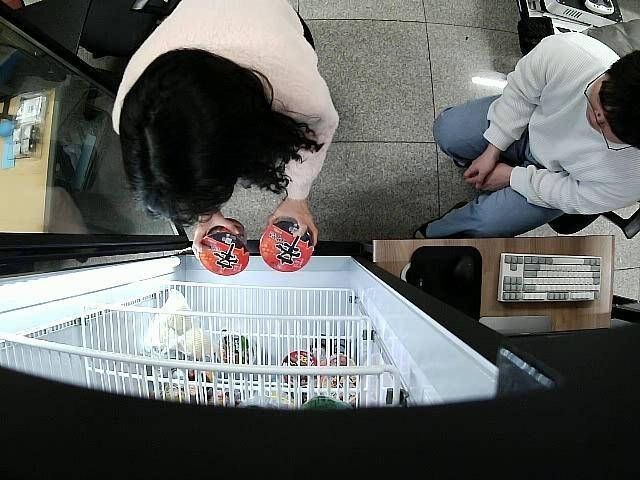01_ShinRamen_L: (258, 218, 314, 272), (200, 217, 248, 276)
